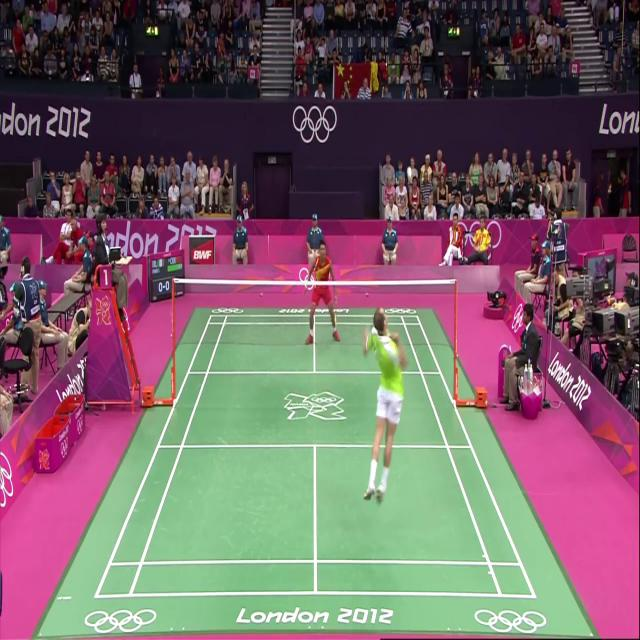Net: (174, 278, 458, 379)
Player1: (328, 288, 404, 550)
Player2: (304, 226, 339, 356)
Shuttlecock: (399, 157, 422, 192)
